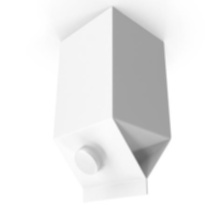carton: (48, 7, 176, 206)
